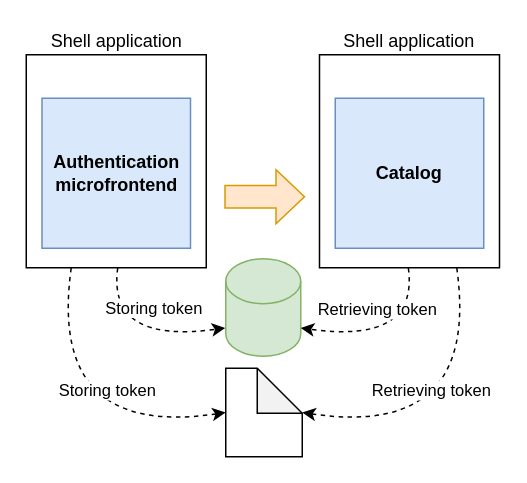
The diagram is 527 pixels wide and 483 high, and some of its shapes have lost their labels. Each missing label, with the centre of its shape:
"Cookie" belongs at point (263, 412).
"Web storage" belongs at point (262, 306).
